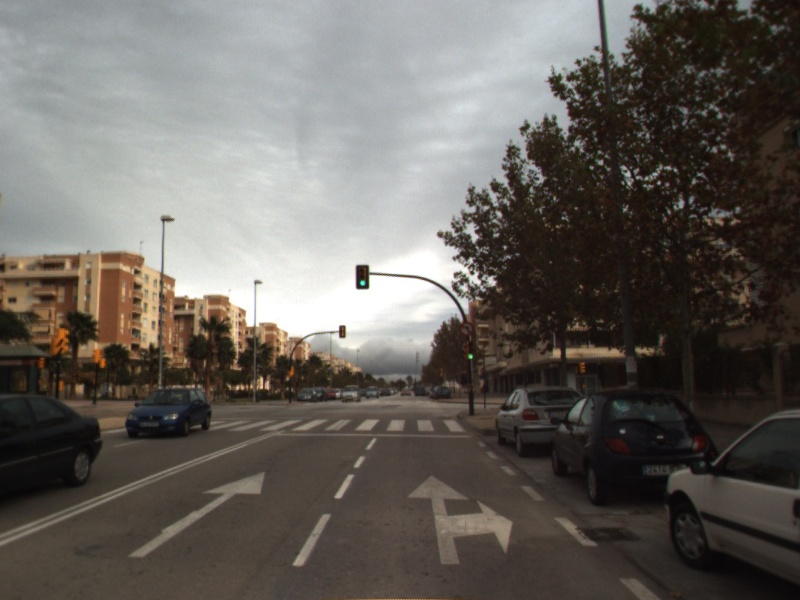STRAIGHT: (126, 469, 267, 559)
STRAIGHT_RIGHT: (405, 473, 515, 566)
